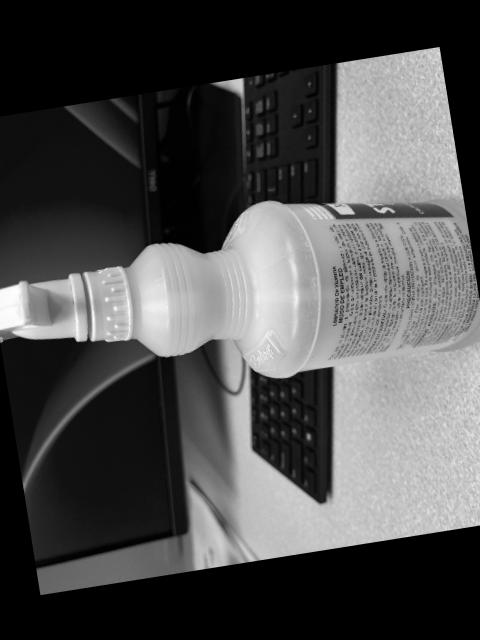StarSpray: (0, 195, 480, 378)
